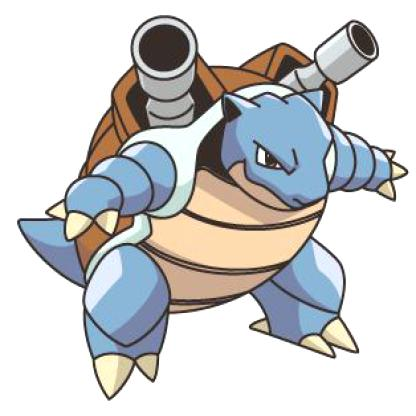Turtok: (7, 7, 414, 401)
